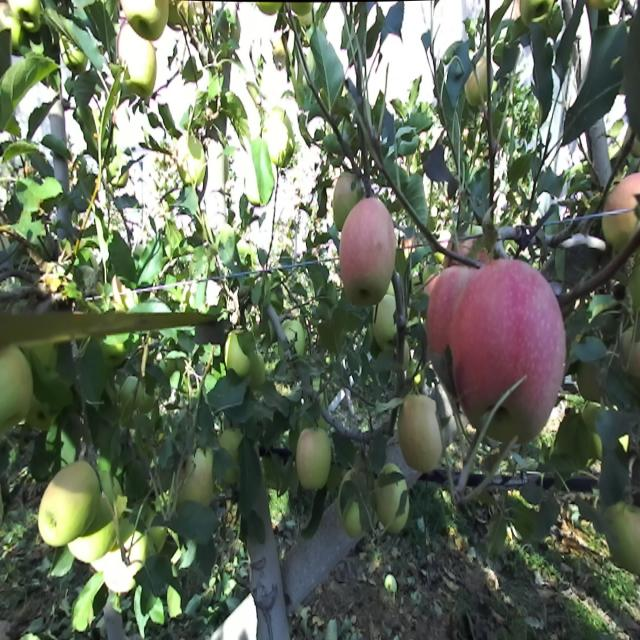apple: (454, 262, 565, 440), (339, 196, 396, 309), (38, 461, 100, 547), (426, 265, 462, 364), (398, 396, 442, 473), (602, 174, 640, 248), (0, 345, 32, 431), (605, 500, 640, 576), (119, 29, 157, 96), (107, 524, 146, 589), (71, 509, 116, 562), (376, 464, 410, 532), (297, 429, 329, 490), (263, 108, 295, 168), (121, 0, 169, 38), (184, 448, 212, 508), (339, 471, 364, 538), (334, 171, 362, 227), (177, 135, 206, 186), (465, 53, 493, 105), (374, 295, 398, 350), (219, 430, 243, 482), (225, 331, 251, 377), (10, 0, 40, 32), (282, 319, 304, 359), (518, 0, 553, 25), (60, 41, 86, 72)
